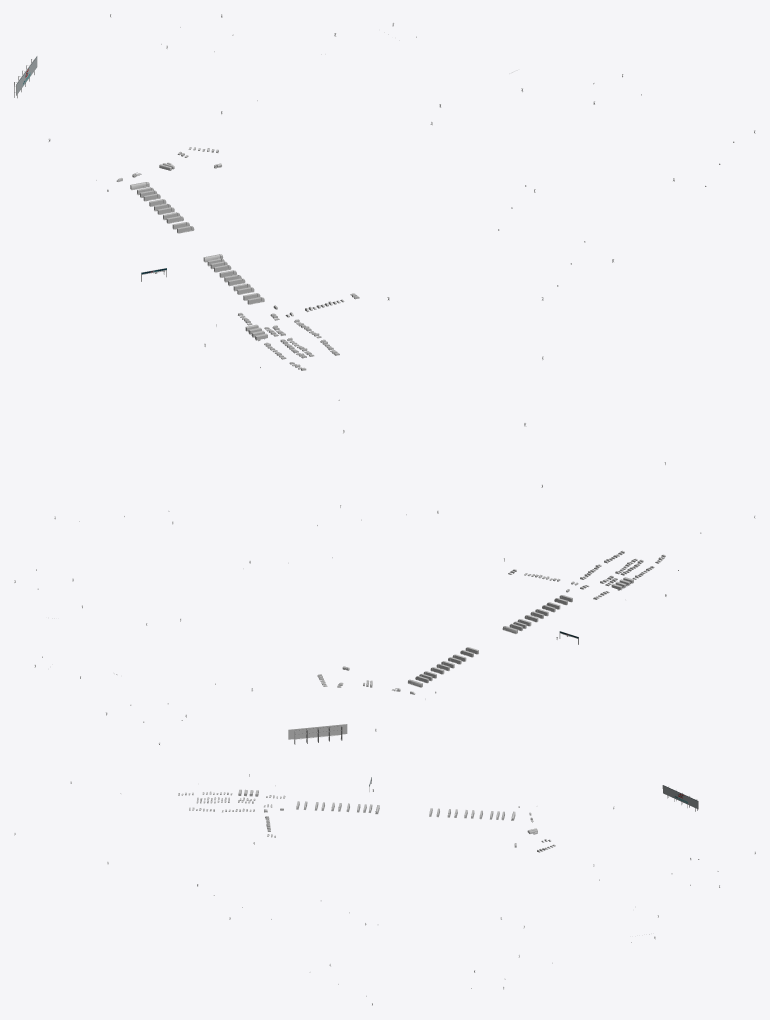
3 views of the same model, one above another, from view 1: azimuth 30°, elevation 25°; view 2: azimuth 150°, elevation 25°; view 3: azimuth 270°, elevation 25° (orthographic). The views are drawn at different scales.
Visible parts, largest first — view 1: no part large enough to name; view 2: ad07_SUB0; view 3: no part large enough to name.
Part boxes in pixels (left/top/right/bottom): ad07_SUB0: left=288, top=724, right=347, bottom=744.
Bounding box in the file's own units: 675 × 37.74 × 930.
